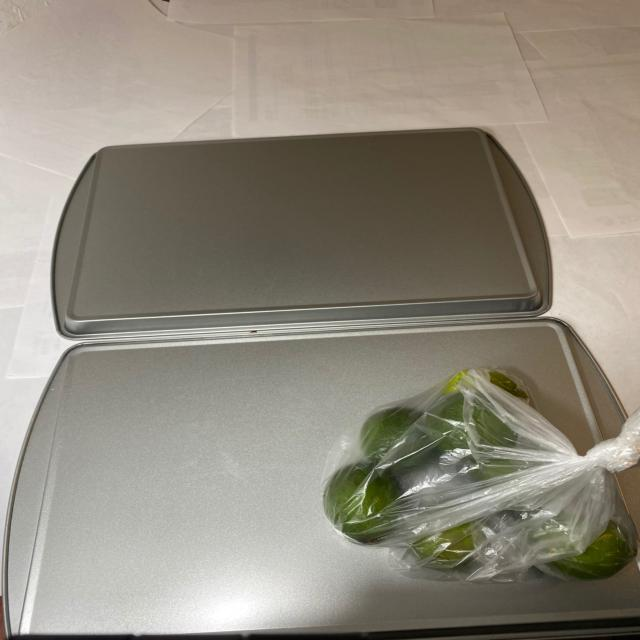lemon: (324, 366, 629, 590)
